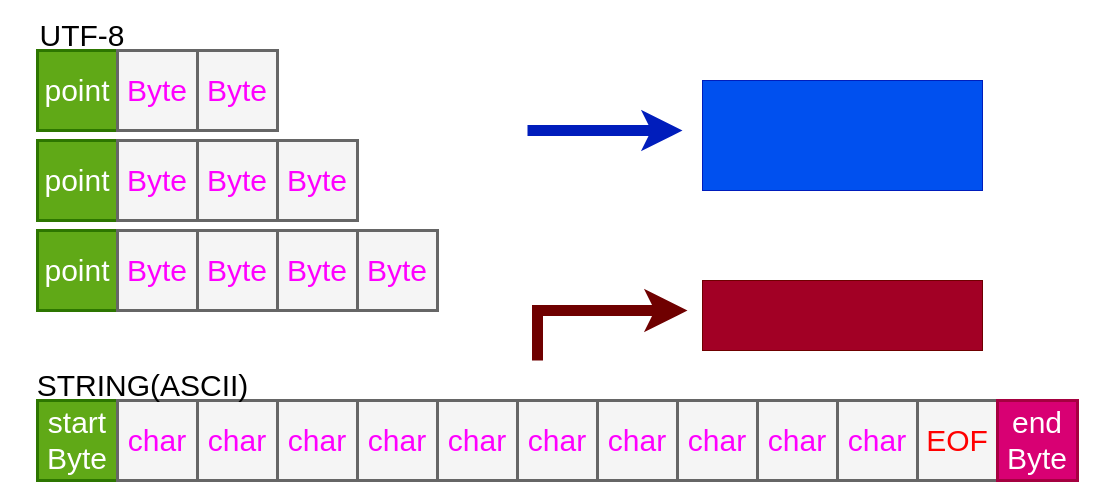
Image size: 1096x499. Some labels were removed from this diagram. The centre of each missing label's shape, as x and y in pixels:
"SIPO데이터버스 필요" goes at point (842, 315).
"UTF-8 to CHAR DECODER 필요" goes at point (842, 135).
